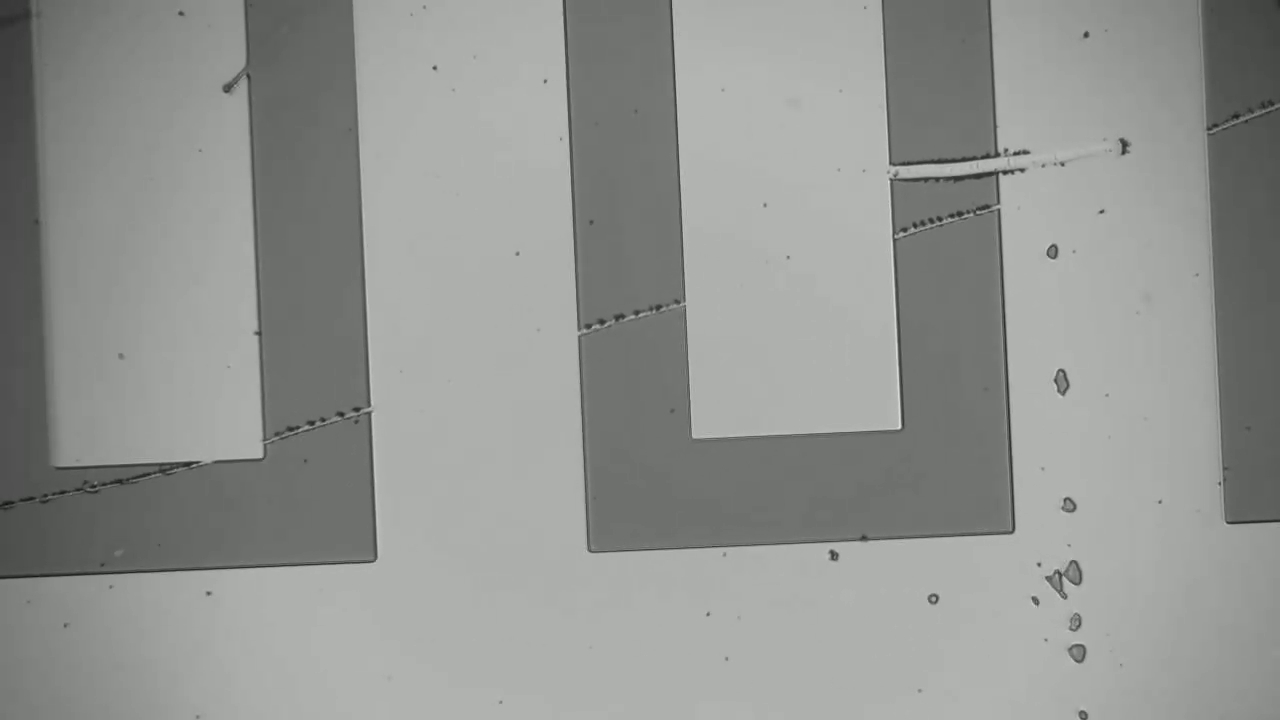Short_circuit: (858, 136, 1038, 190)
scratch: (13, 469, 184, 506), (277, 402, 364, 438), (902, 201, 994, 232), (587, 297, 676, 327), (1214, 96, 1280, 129)
